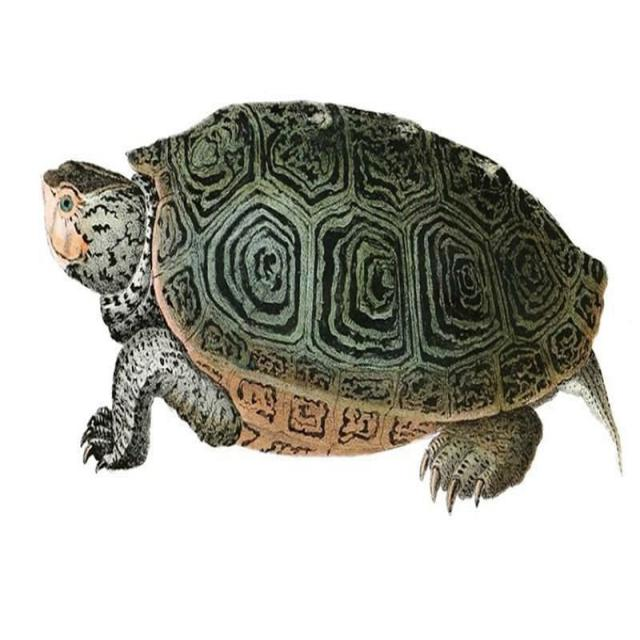turtle: (42, 101, 621, 509)
